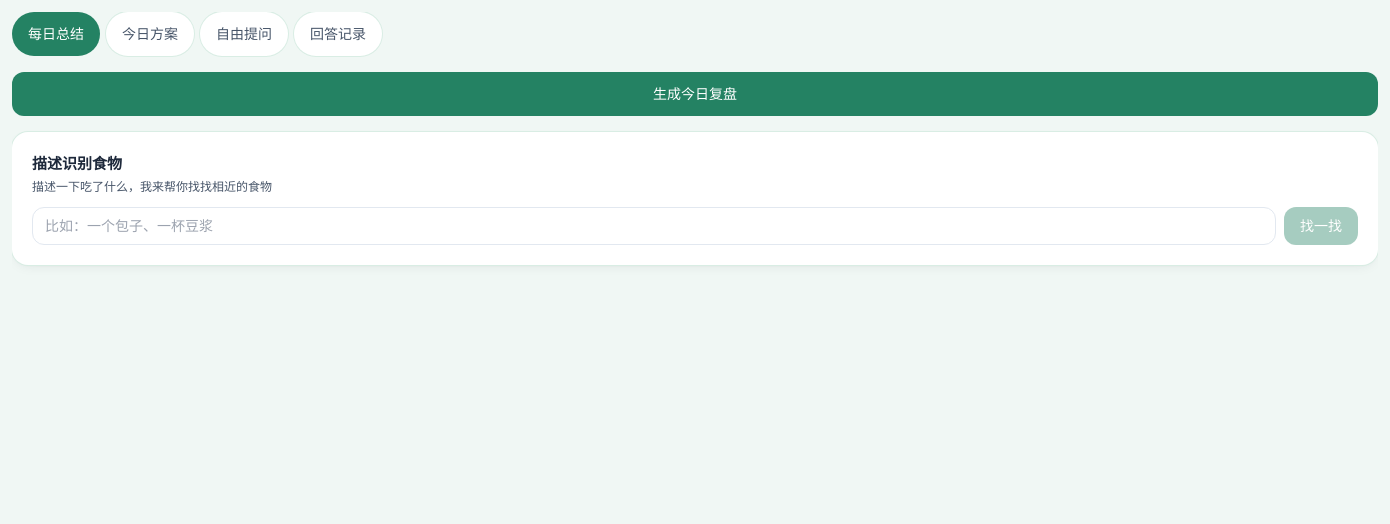
AI 执行轨迹（GAP-7） › `failed` 不直译成「失败」（语气红线）
What coordinates should you click on to do the following:
click the tab "回答记录"
I would click on:
 (338, 34)
Its box is left=294, top=12, right=382, bottom=56.
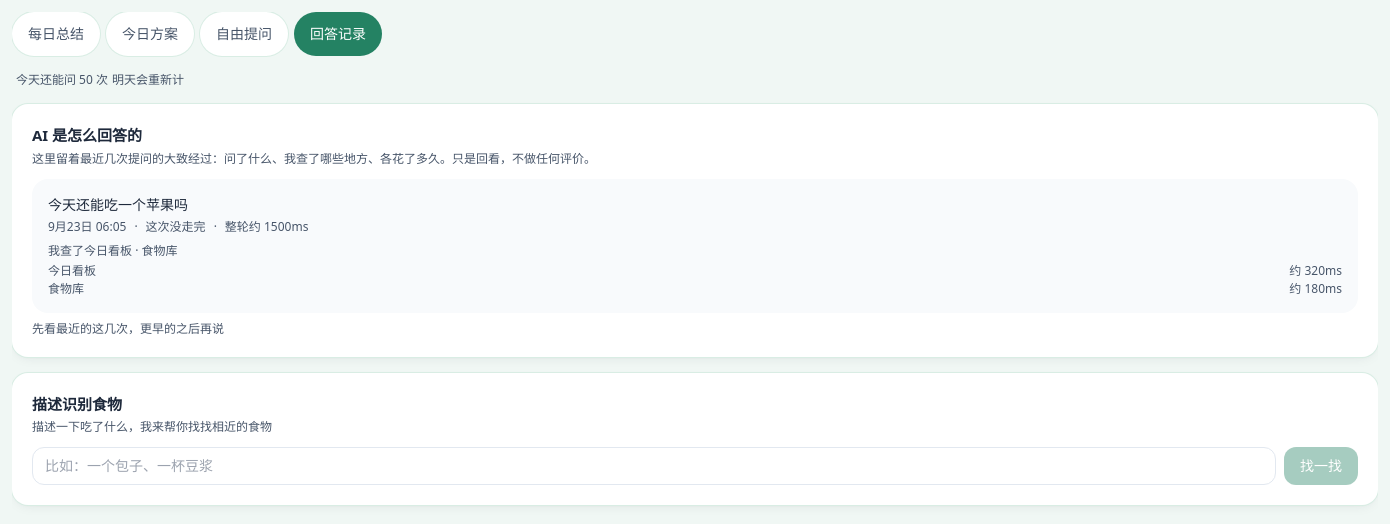
Check: the list item with test id "ai-trace-2" is shown, box left=32, top=178, right=1358, bottom=312
Check: the text "这次没走完" is shown, box left=146, top=218, right=206, bottom=234
